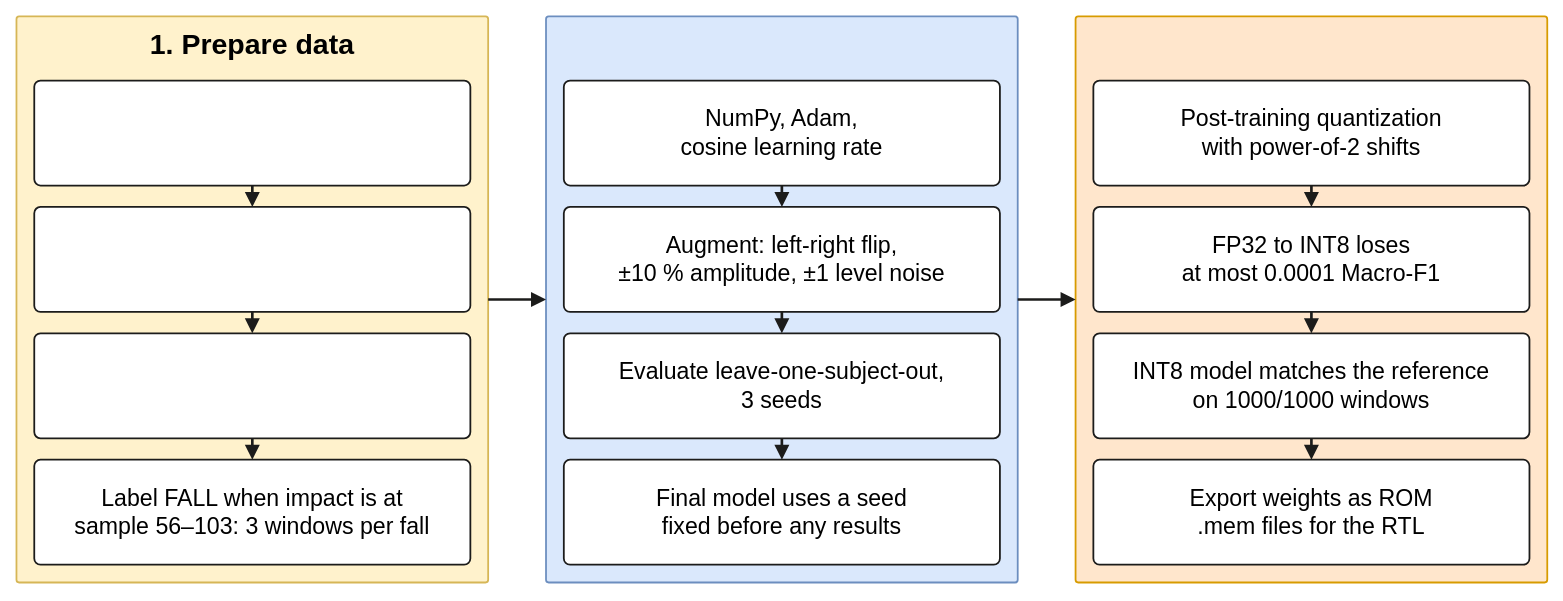
Image size: 1563x601. Some labels were removed from this diagram. The shapes that lost their labels are listed below. From the top down, each one's box as (x1, y1, x2, y2) in pixels, then its label:
(33, 79, 471, 186): Head channel, rotate to X forward, Y left, Z up
(33, 206, 471, 312): Interpolate 25 Hz to 50 Hz
(545, 15, 1018, 583): 2. Train
(1074, 15, 1548, 583): 3. Deploy
(33, 332, 471, 439): Scale to the device’s INT8 range
